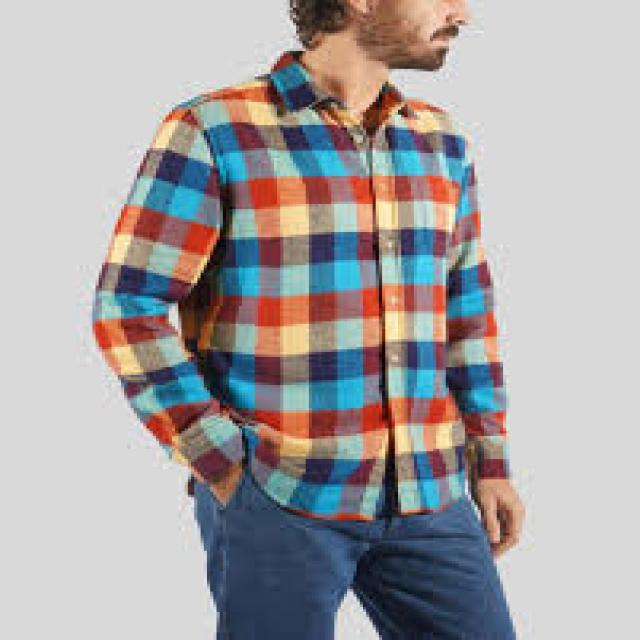plaid: (88, 79, 526, 521)
